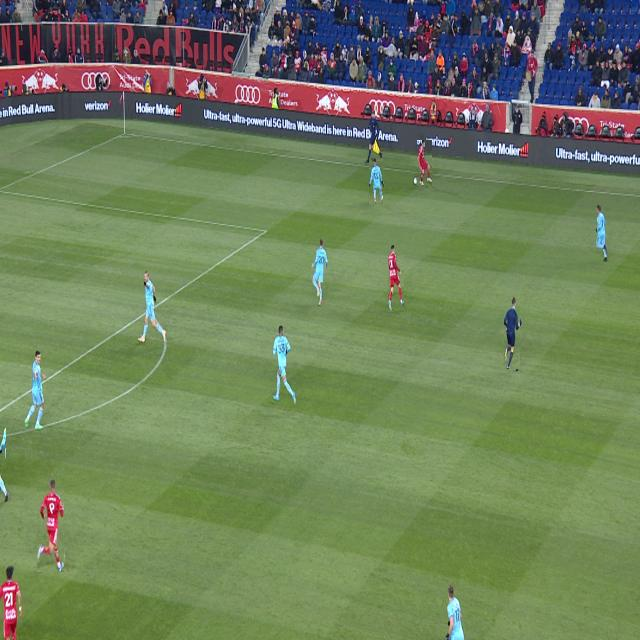football: (414, 177, 418, 185)
player: (38, 479, 64, 572), (138, 271, 166, 342), (273, 326, 296, 404), (24, 350, 46, 430), (0, 565, 22, 640), (311, 239, 328, 305), (388, 245, 404, 312), (446, 584, 464, 640), (418, 141, 432, 186), (596, 205, 607, 261), (370, 159, 383, 204), (0, 471, 9, 502), (0, 427, 6, 459)
referee: (505, 298, 520, 369)
